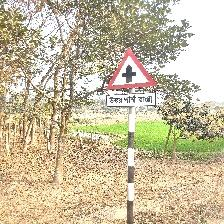Crossroad: (104, 47, 157, 114)
